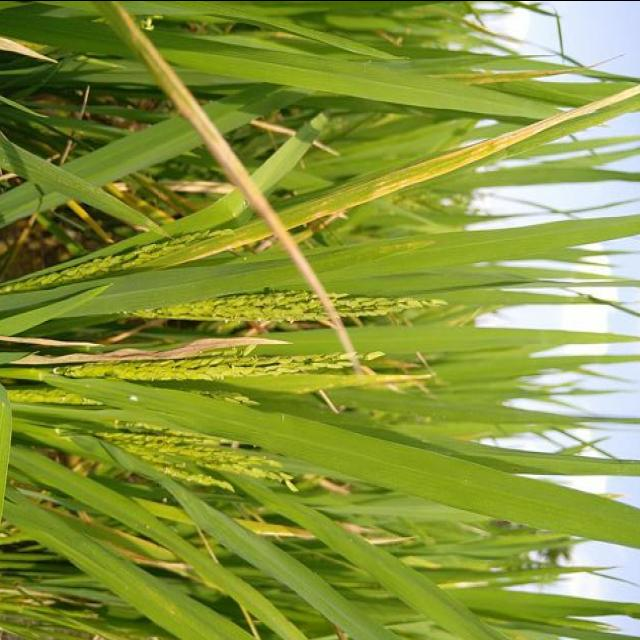Leaf Blight: (145, 51, 355, 359), (275, 83, 640, 234)
